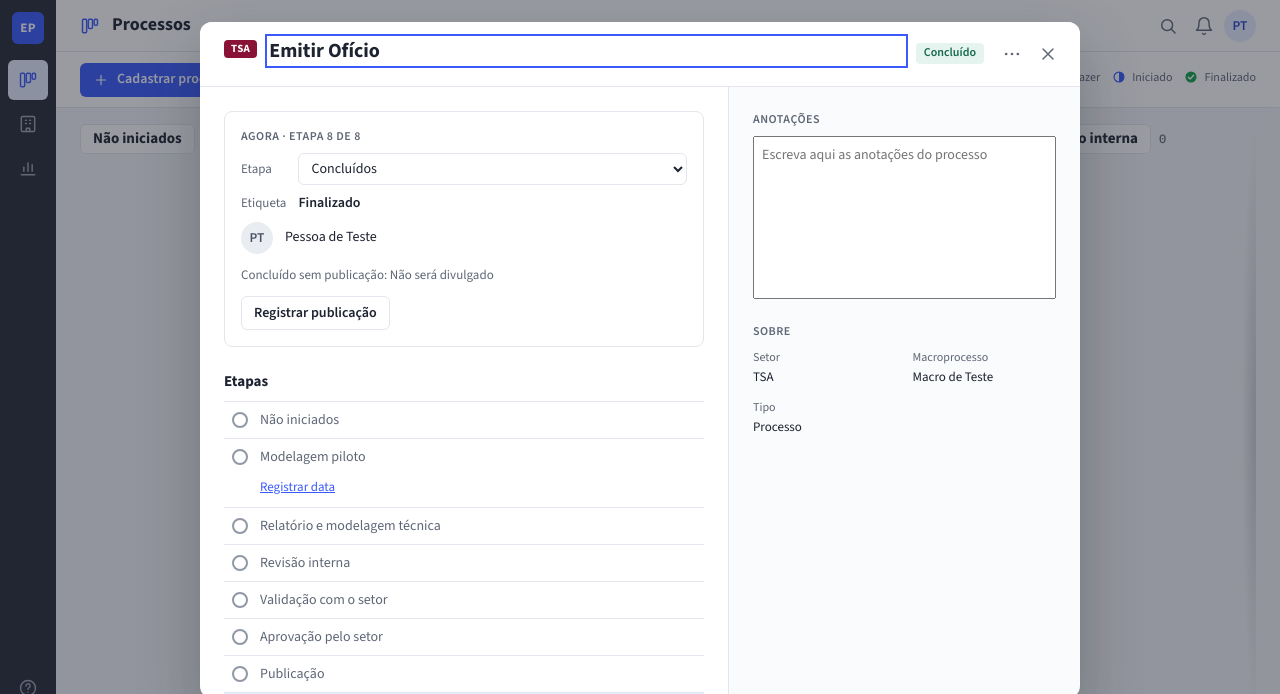
Scenario: o concluído fora do Quadro registra a publicação e depois a corrige, como qualquer concluído
Step 1. Click the button "Registrar publicação" → coordinates (315, 313), box [241,296,390,330]
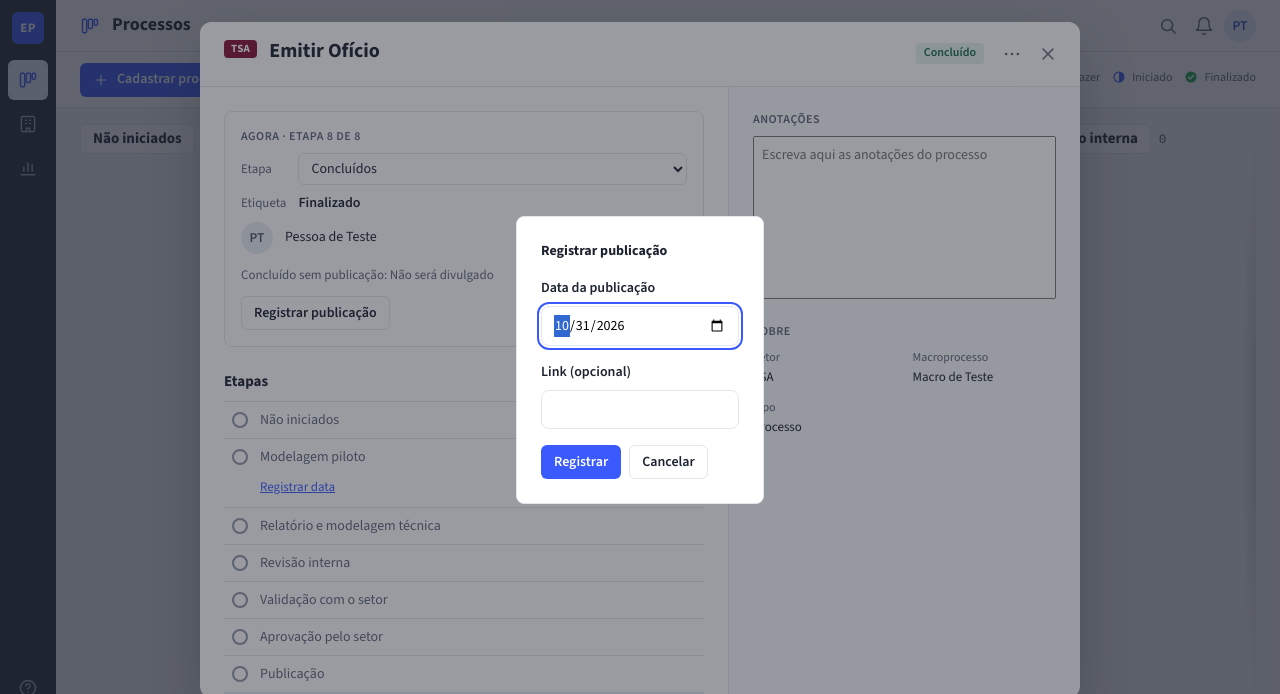
Step 2. Click the button "Registrar" → coordinates (581, 462), box [541,445,621,479]
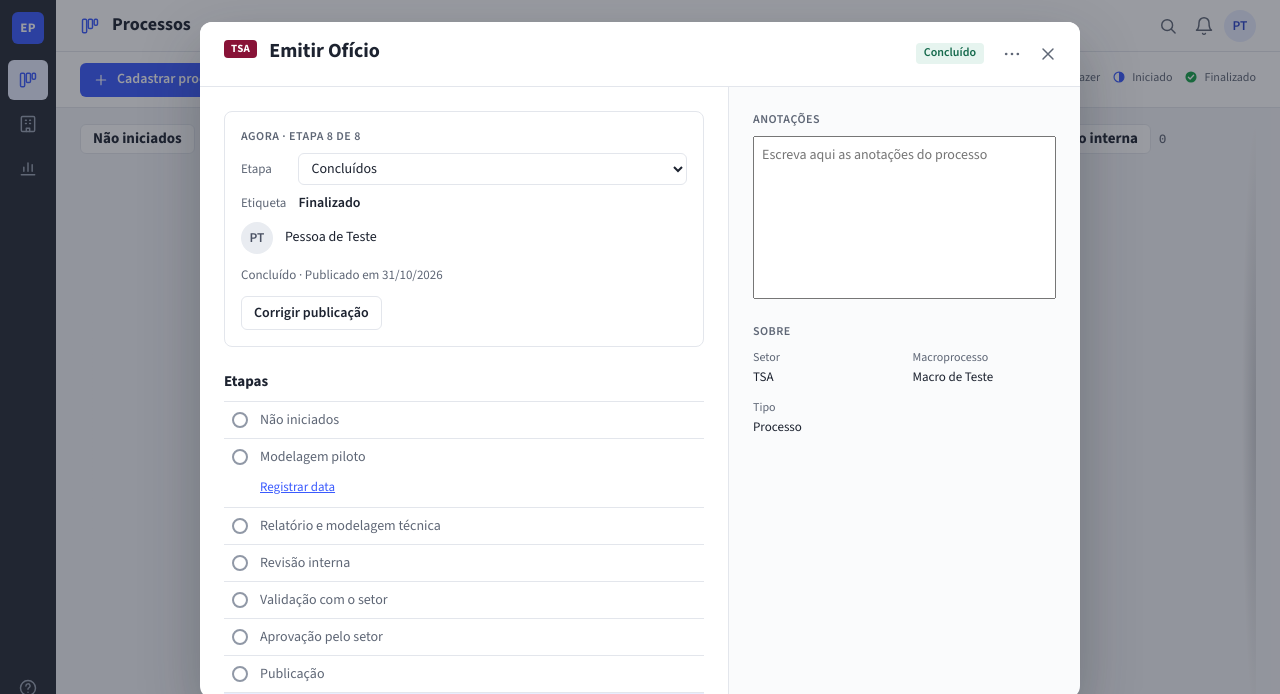
Expected: the text "Concluído · Publicado em 31/10/2026" is shown, [241,266,443,284]
